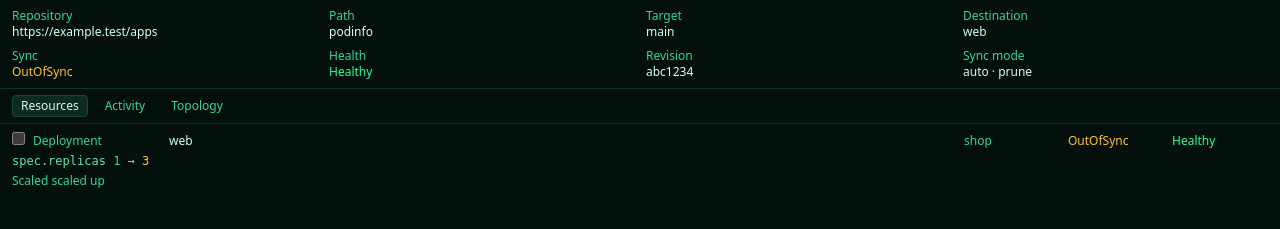
Scenario: the per-application panel › syncs only the resources that were marked
What coordinates should you click on to do the following:
click the checkbox named "Mark Deployment web"
I would click on:
 (18, 138)
Its box is [12,132,25,145].
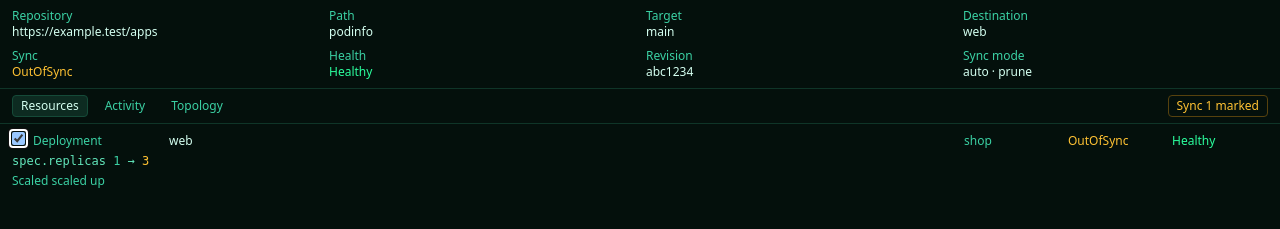
What coordinates should you click on to do the following:
click the button "Sync 1 marked"
I would click on:
 (1218, 106)
Its box is [1168,95,1268,117].
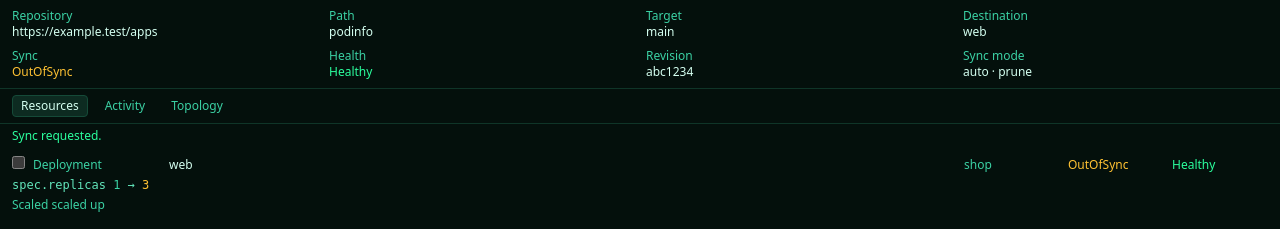
expect the text "Sync requested." is shown: met, box [12,127,102,144]
